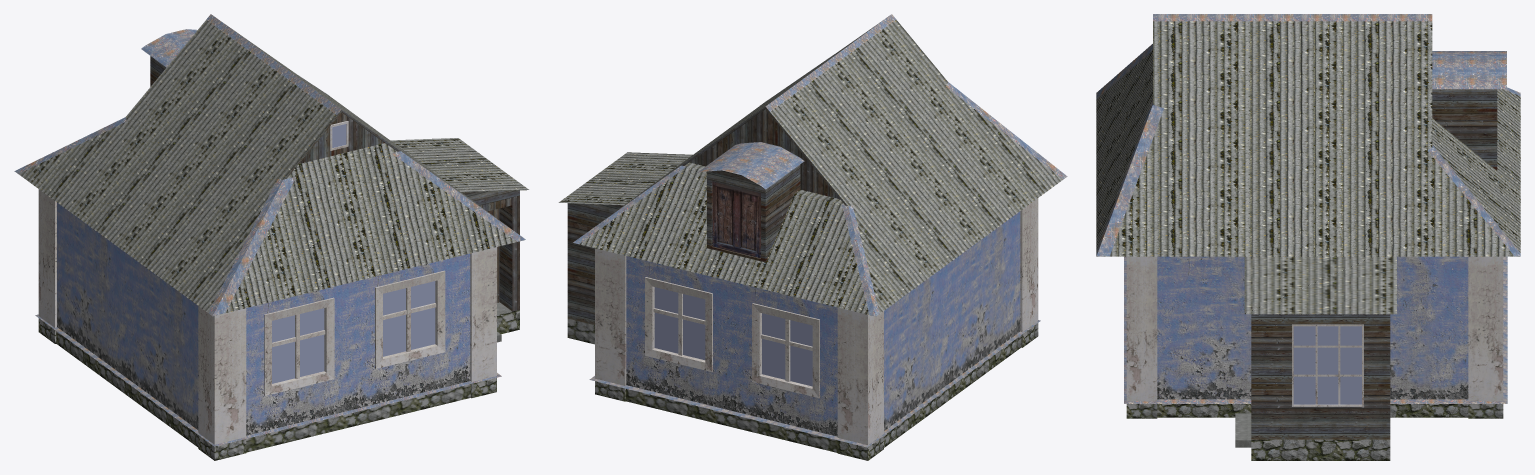
The model's file is house8.fbx.
3 views of the same model, side by side, from view 1: azimuth 30°, elevation 25°; view 2: azimuth 150°, elevation 25°; view 3: azimuth 270°, elevation 25° (orthographic). The views are drawn at different scales.
Parts seen in each view (by area): view 1: house_LOD0; view 2: house_LOD0; view 3: house_LOD0.
Boxes of the visible parts, box(x1,y1,x2,y2) form: house_LOD0: box(14, 14, 528, 460); house_LOD0: box(558, 14, 1067, 460); house_LOD0: box(1096, 14, 1520, 460).
Size of what is drawn, in the model's own units: 768 by 587 by 683.
